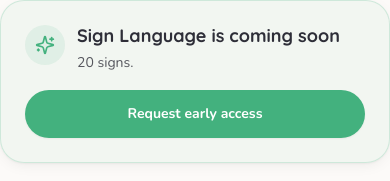
Test: FeatureRequestCard › sends one request, shows the loading then success state, and remembers it per user
Later steps or results of the test are not shown.
Click the button "Request early access": point(195, 114) [25,90,365,138]
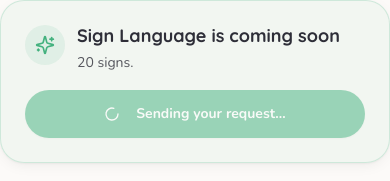
expect the button "Sending your request…" is disabled: met
Click the button "Sending your request…": point(195, 114) [25,90,365,138]
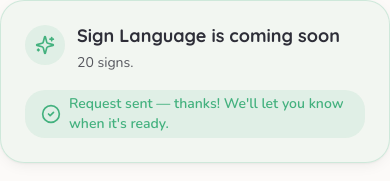
expect the message reads "Request sent — thanks! We'll let you know when it's ready.": met, box [69,94,344,133]
expect the button "Sending your request…" is gone: met
